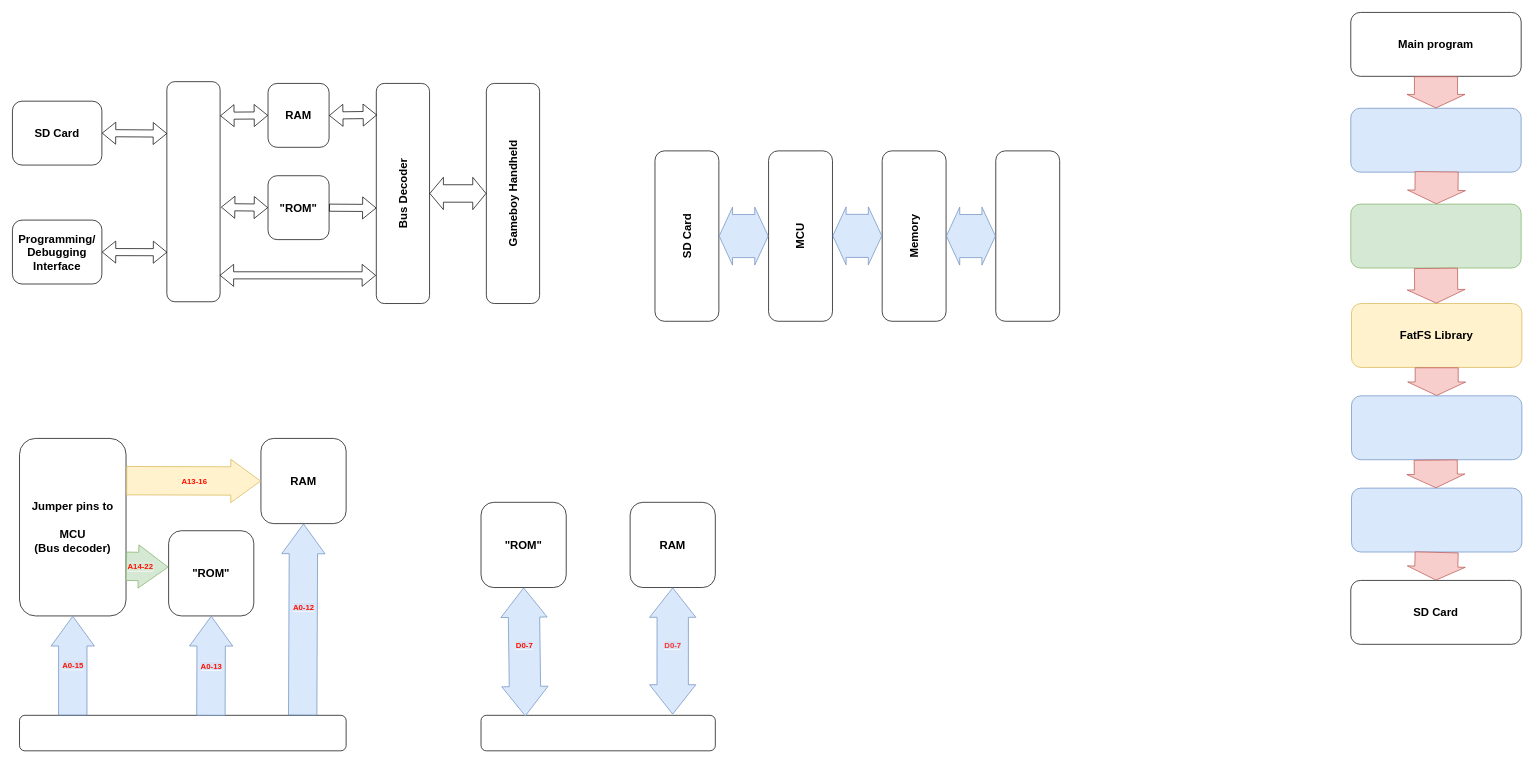
The diagram is 1534 pixels wide and 763 high, and some of its shapes have lost their labels. Each missing label, with the centre of its shape:
"Disk I/O" belongs at pixel 1436 427.
"File Library" belongs at pixel 1435 140.
"GB Address bus (A0-15)" belongs at pixel 182 733.
"GB Data bus (D0-7)" belongs at pixel 597 733.
"MBC" belongs at pixel 1027 235.
"Microcontroller" belongs at pixel 193 191.
"SPI Library" belongs at pixel 1436 519.
"System Calls" belongs at pixel 1435 235.
